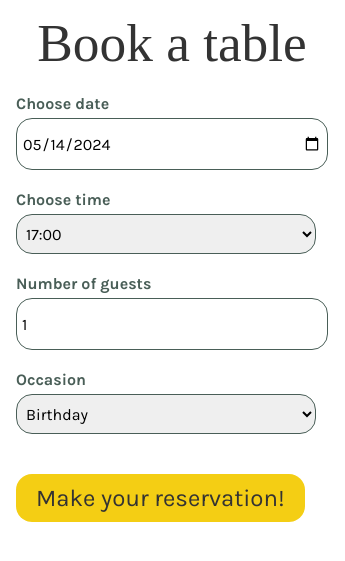
Test case: Booking form › shows an error message when date is not selected
This screenshot has width=345, height=561.
Clear the date field labelled "Choose date" at (172, 144), box [16,118,328,170]
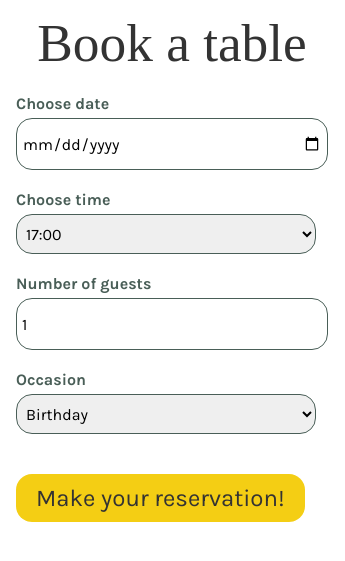
Click the button at (160, 498), box [16,474,305,522]
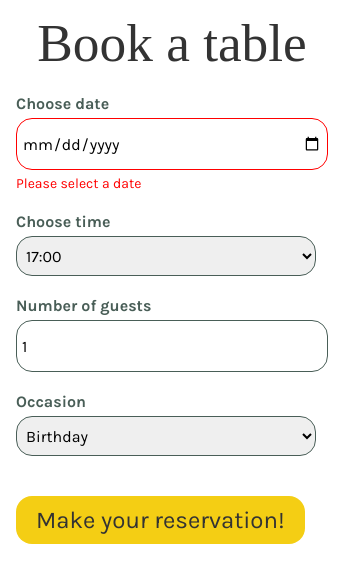
Now the text "Please select a date" is shown, box [16,175,141,192]
